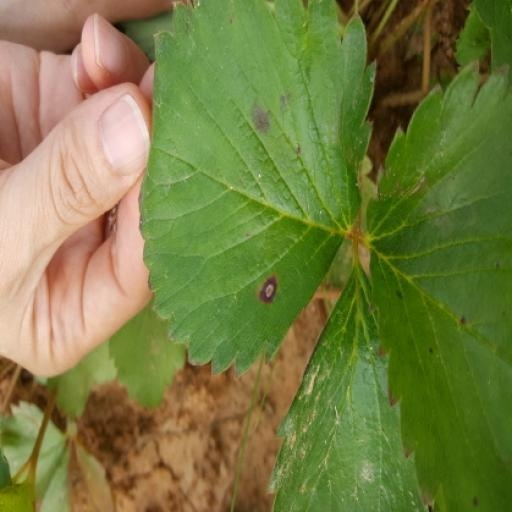Leaf Spot: (136, 132, 377, 511), (363, 0, 511, 455)
